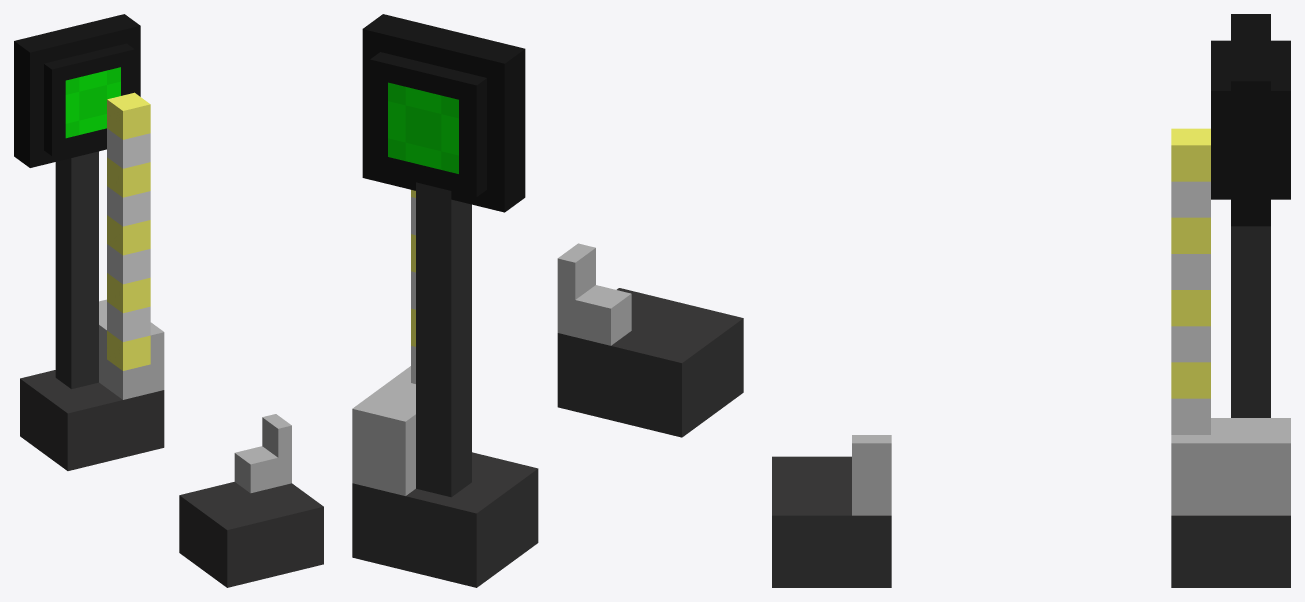
File: ampel open.obj
The picture shows the model from 3 angles, left to right: view 1: azimuth 30°, elevation 25°; view 2: azimuth 150°, elevation 25°; view 3: azimuth 270°, elevation 25°; orthographic projection. The views are drawn at different scales.
Bounding box in the file's own units: 0.8 × 2.8 × 2.6.
Materials: 1 (1 with a texture image).
